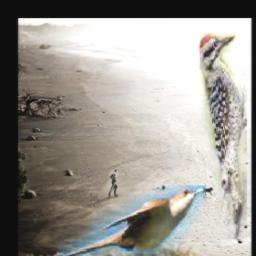Cuckoo: (56, 185, 205, 256)
Woodpecker: (200, 33, 247, 239)
